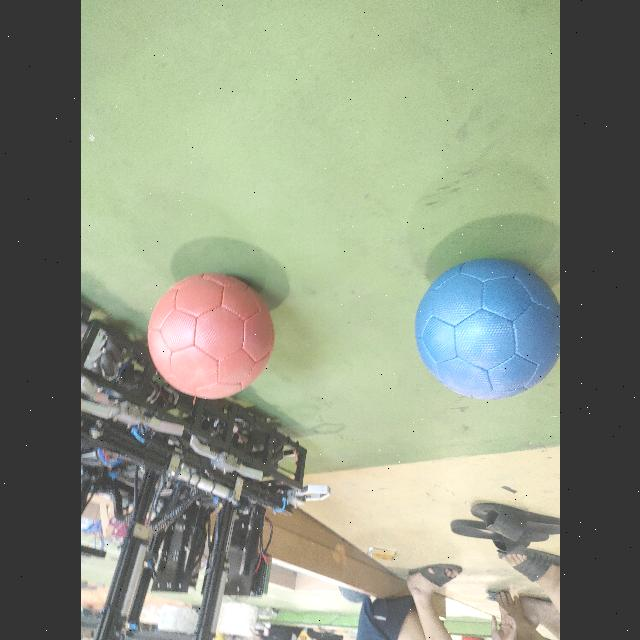B: (414, 258, 560, 402)
R: (147, 272, 276, 400)
